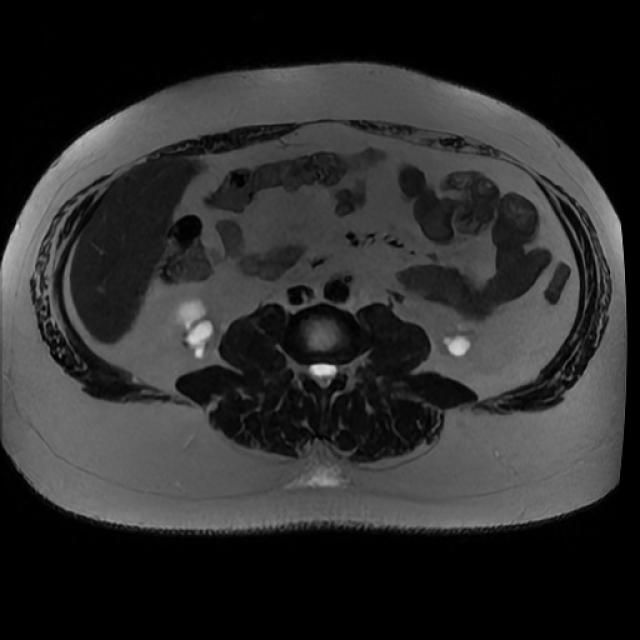sag: (174, 300, 212, 356)
sol: (442, 335, 469, 357)
